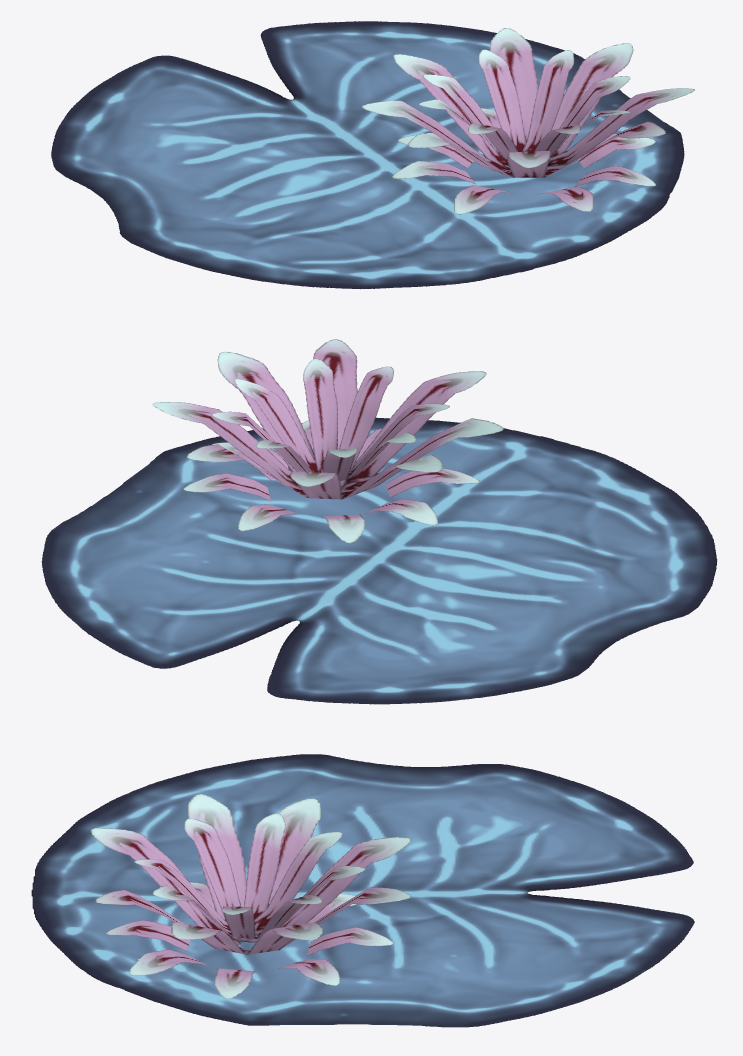
The model's file is MarshLilypad_a01.fbx.
The picture shows the model from 3 angles, top to bottom: view 1: azimuth 30°, elevation 25°; view 2: azimuth 150°, elevation 25°; view 3: azimuth 270°, elevation 25°; orthographic projection. The views are drawn at different scales.
Parts seen in each view (by area): view 1: Lilypad_a01; view 2: Lilypad_a01; view 3: Lilypad_a01.
Boxes of the visible parts, box(x1,y1,x2,y2) form: Lilypad_a01: box(51, 21, 694, 289); Lilypad_a01: box(41, 339, 717, 704); Lilypad_a01: box(31, 754, 694, 1027).
Size of the model in its own units: 274 by 46.49 by 280.
